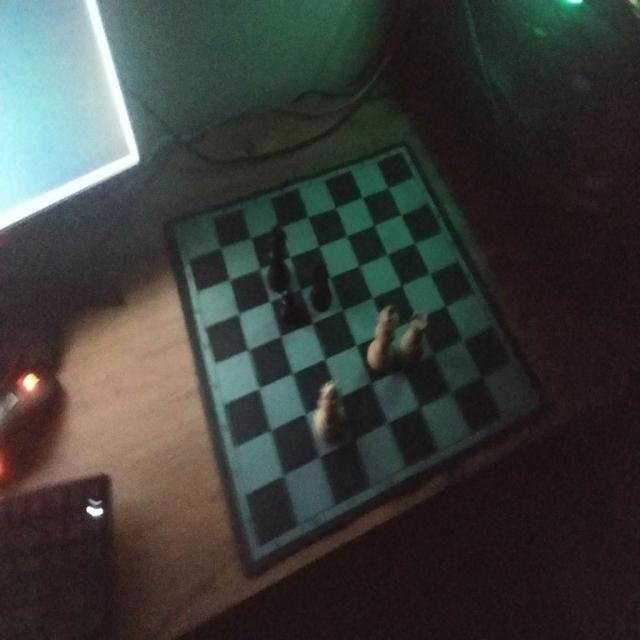chess-table-corners: (170, 214, 193, 240), (392, 142, 412, 164), (251, 536, 268, 558), (524, 393, 540, 412)
